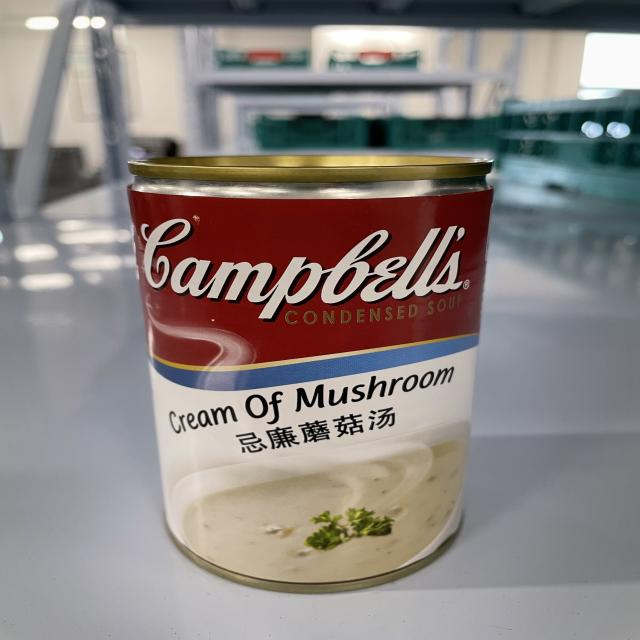object_name: (138, 163, 472, 570)
